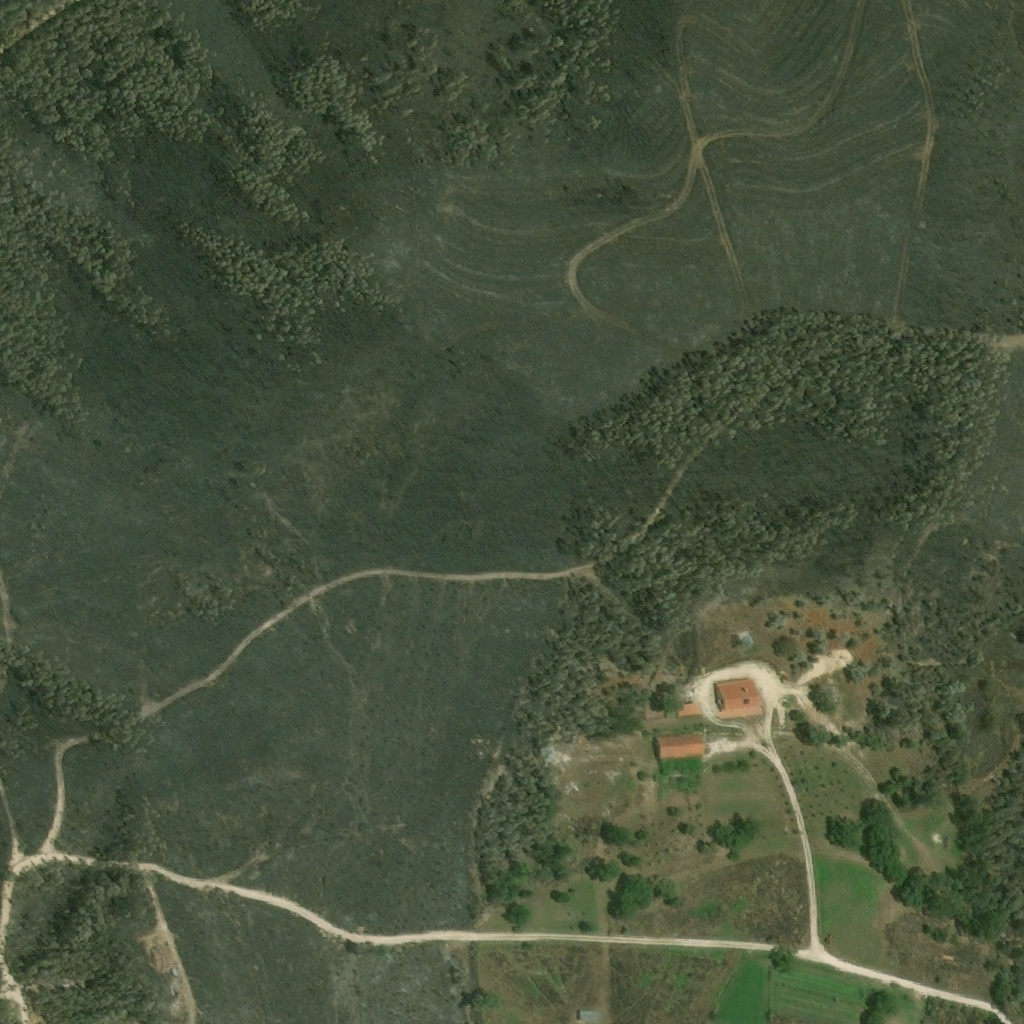0 no-damage: (714, 678, 761, 711), (653, 733, 705, 760), (676, 701, 701, 717), (577, 1009, 595, 1020)
3 destroyed: (542, 747, 555, 762)
